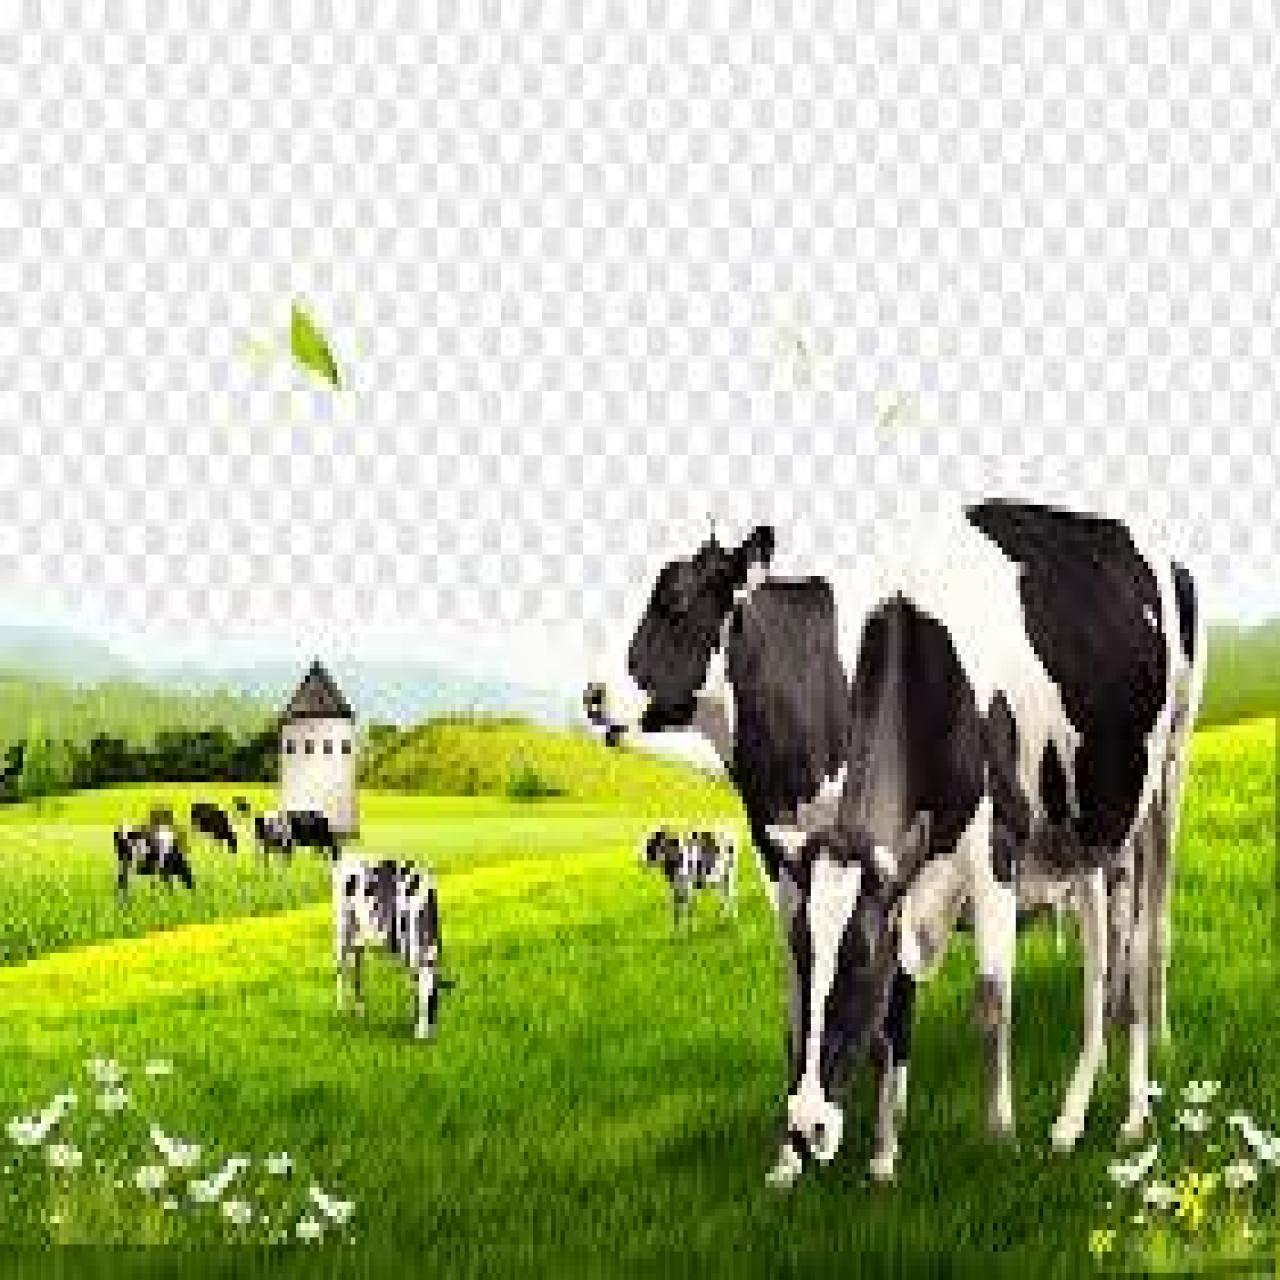cow: (586, 526, 1210, 1124), (763, 822, 932, 1205), (335, 864, 458, 1042), (635, 829, 749, 921), (105, 822, 205, 899), (251, 797, 350, 860), (182, 790, 237, 853)
